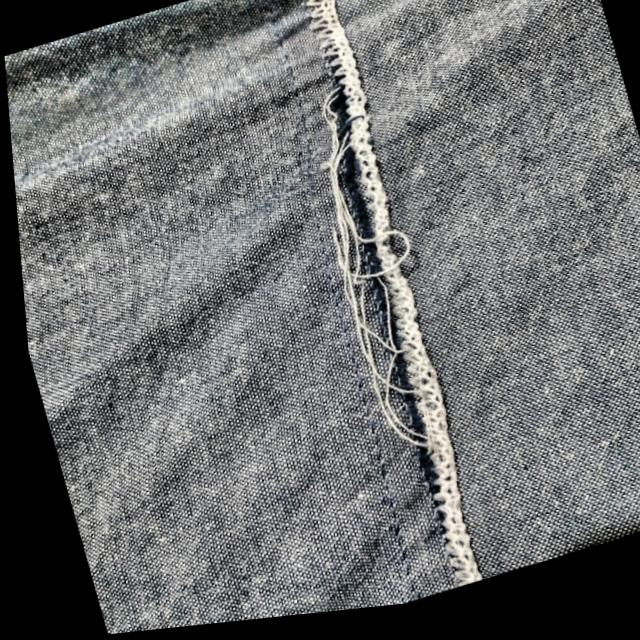Stitch: (257, 98, 498, 536)
